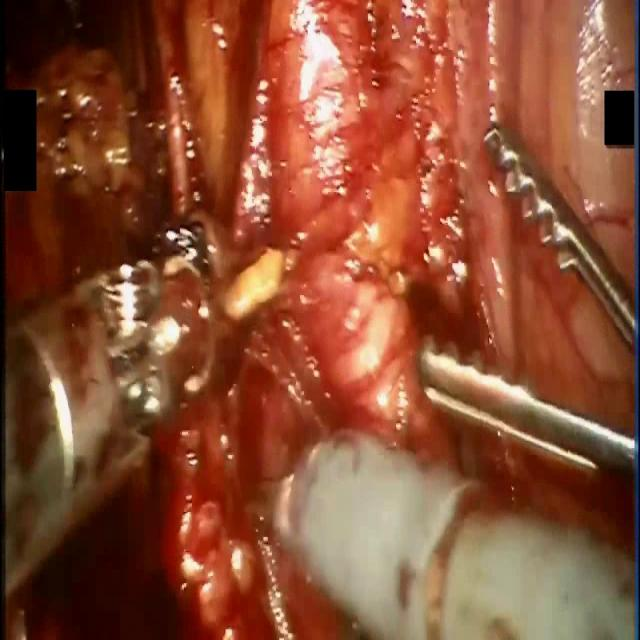surgical-area: (0, 0, 638, 639)
surgical-tool: (258, 418, 638, 639), (2, 221, 217, 606), (6, 383, 206, 606), (478, 120, 637, 352), (414, 331, 636, 487)
